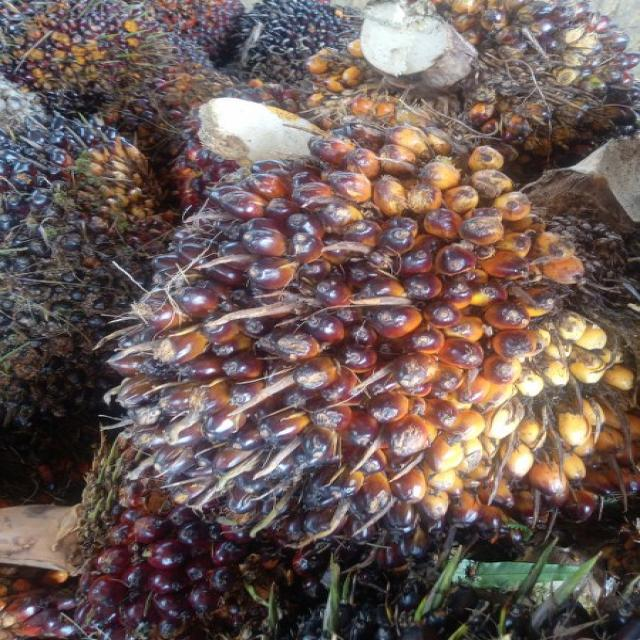fraksi 00: (94, 118, 617, 542)
